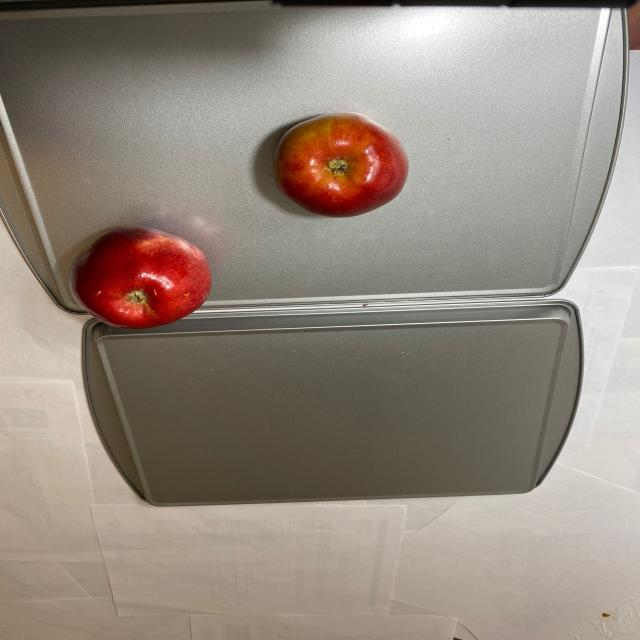apple: (68, 225, 213, 327), (271, 112, 409, 219)
